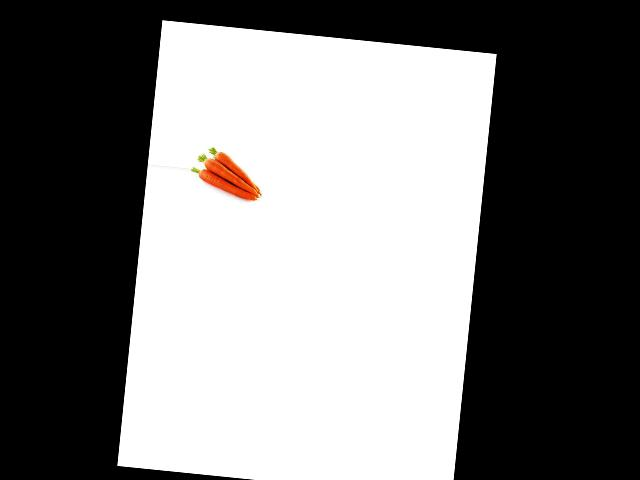carrot: (184, 167, 254, 211)
